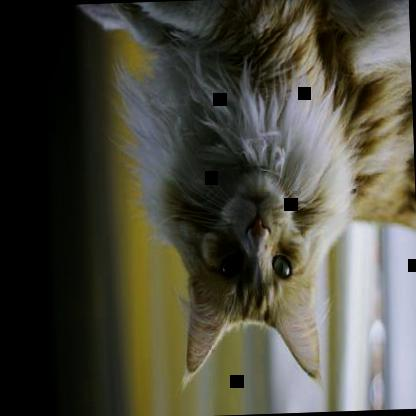cat: (101, 0, 415, 394)
